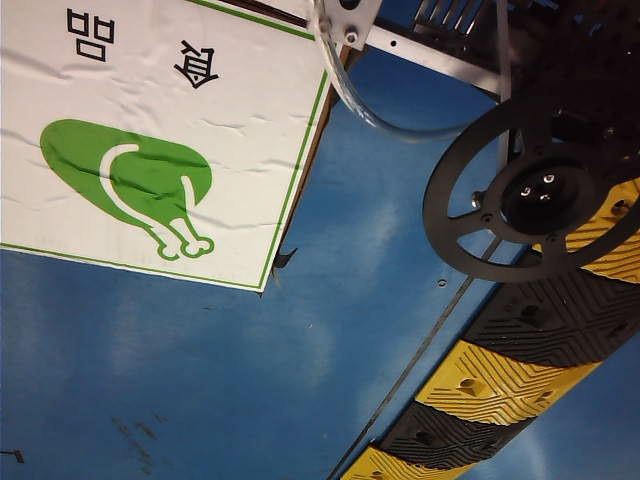Cube_food: (1, 5, 292, 264)
